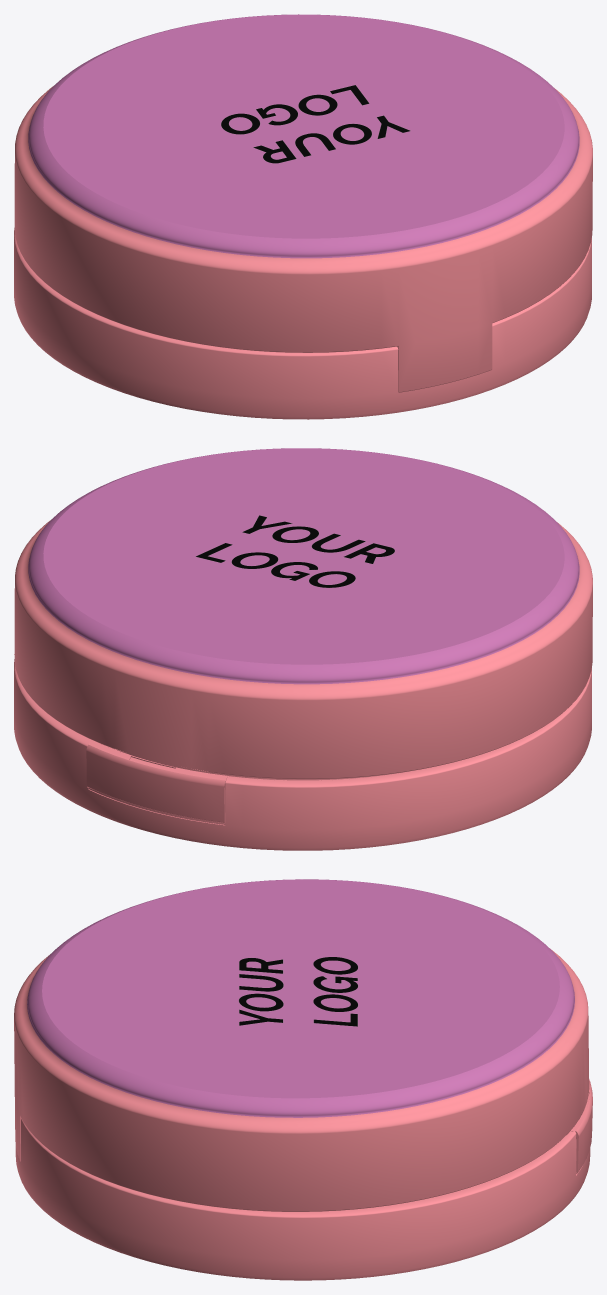
File: Luxury compact powder.gltf
3 renders of one model, top to bottom at view 1: azimuth 30°, elevation 25°; view 2: azimuth 150°, elevation 25°; view 3: azimuth 270°, elevation 25°, orthographic.
Parts seen in each view (by area): view 1: Cylinder.001, Cylinder.009, Cylinder.003, Cylinder.002; view 2: Cylinder.001, Cylinder.009, Cylinder.003, Cylinder.011, Cylinder.002; view 3: Cylinder.001, Cylinder.009, Cylinder.003, Cylinder.002, Cylinder.011.
Part boxes in pixels (bbox=[...]): Cylinder.001: bbox=[28, 14, 579, 258]; Cylinder.009: bbox=[14, 86, 592, 392]; Cylinder.003: bbox=[14, 228, 591, 419]; Cylinder.002: bbox=[221, 85, 410, 163]; Cylinder.001: bbox=[28, 448, 579, 684]; Cylinder.009: bbox=[14, 519, 592, 779]; Cylinder.003: bbox=[14, 659, 591, 850]; Cylinder.011: bbox=[86, 740, 227, 823]; Cylinder.002: bbox=[195, 515, 394, 587]; Cylinder.001: bbox=[27, 879, 574, 1117]; Cylinder.009: bbox=[14, 949, 589, 1211]; Cylinder.003: bbox=[15, 1118, 590, 1280]; Cylinder.002: bbox=[238, 957, 358, 1026]; Cylinder.011: bbox=[570, 1079, 592, 1173].
Bounding box in the file's own units: 2.3 × 0.764 × 2.32.
4 materials, 1 textured.
